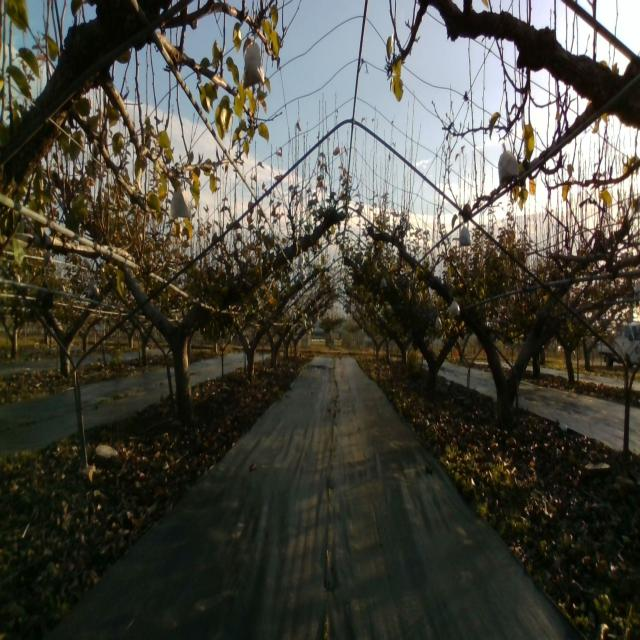pearbags: (242, 41, 264, 88), (168, 184, 192, 221), (498, 143, 520, 183), (458, 221, 470, 247), (448, 296, 460, 317)
